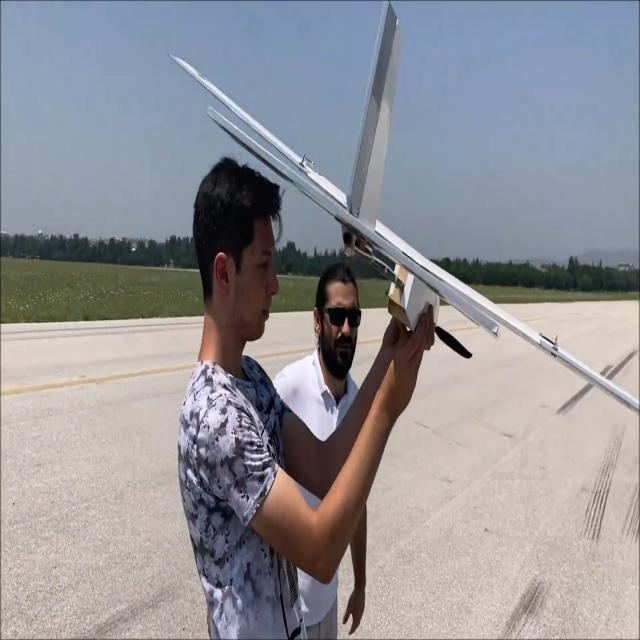UAV: (163, 24, 632, 412)
